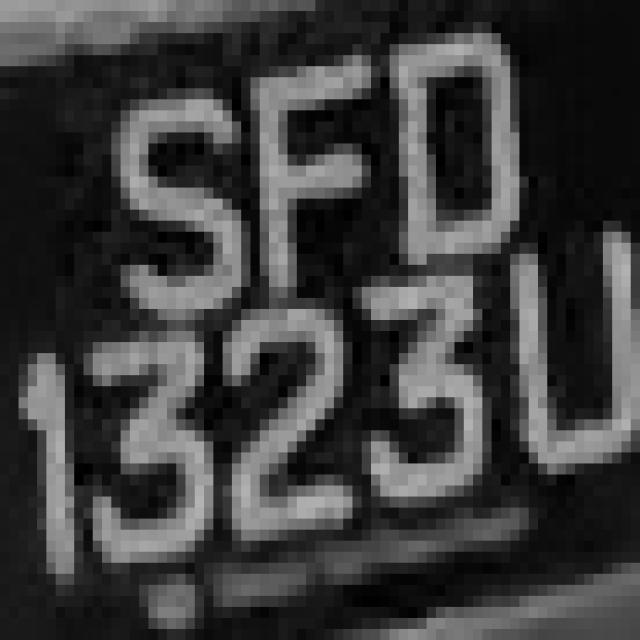1: (9, 309, 93, 640)
2: (213, 276, 362, 596)
3: (343, 265, 482, 563), (102, 287, 223, 618)
D: (371, 55, 519, 287)
F: (222, 44, 390, 331)
S: (93, 55, 250, 353)
U: (510, 230, 640, 479)
